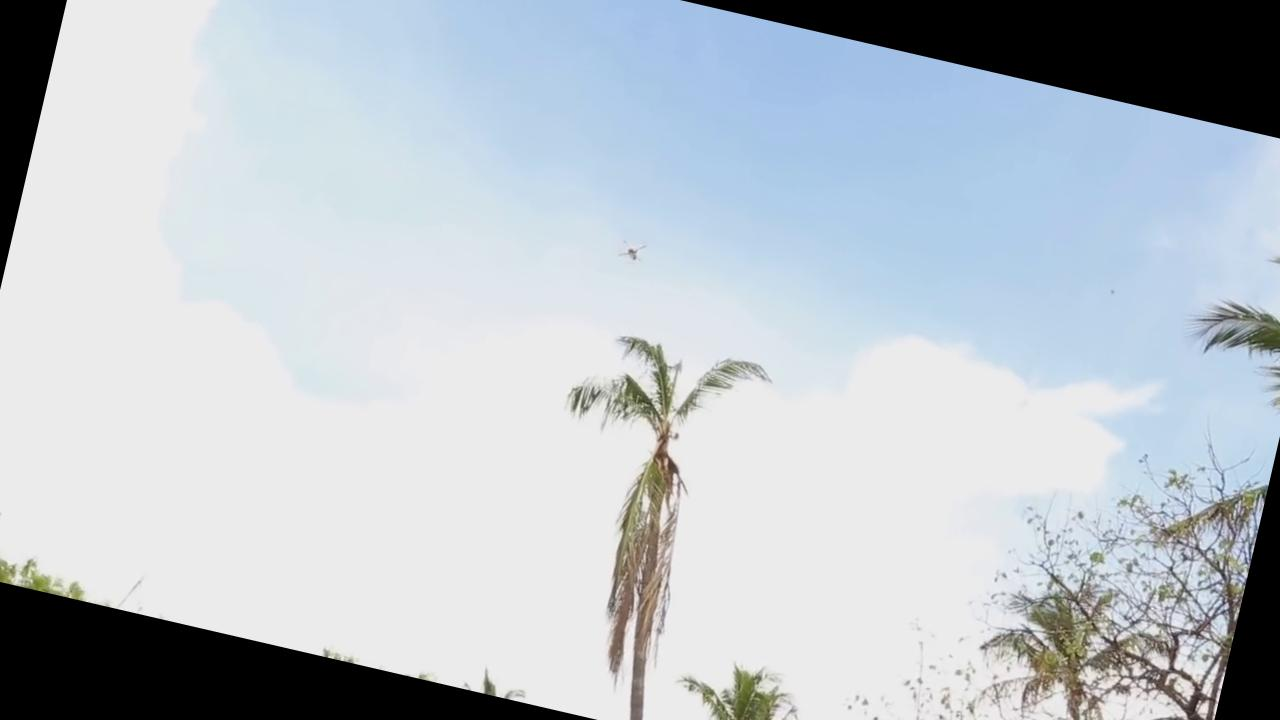drone: (610, 226, 652, 267)
